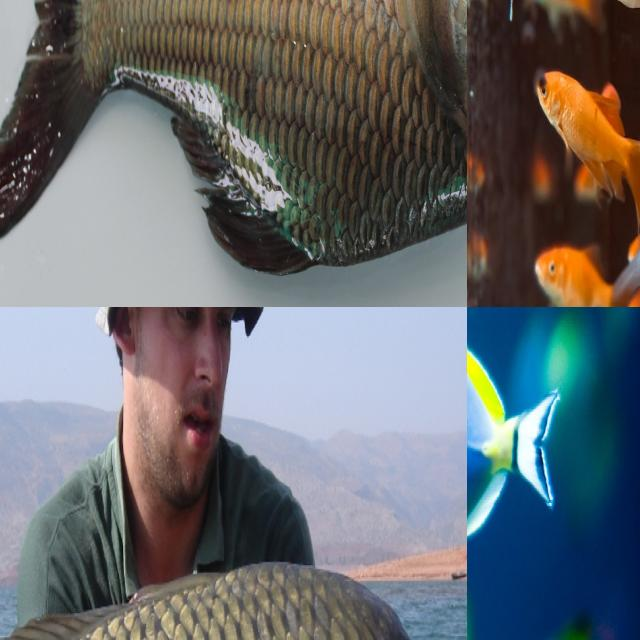fish: (0, 0, 467, 307), (0, 562, 467, 640), (532, 77, 640, 307), (467, 319, 556, 549)
